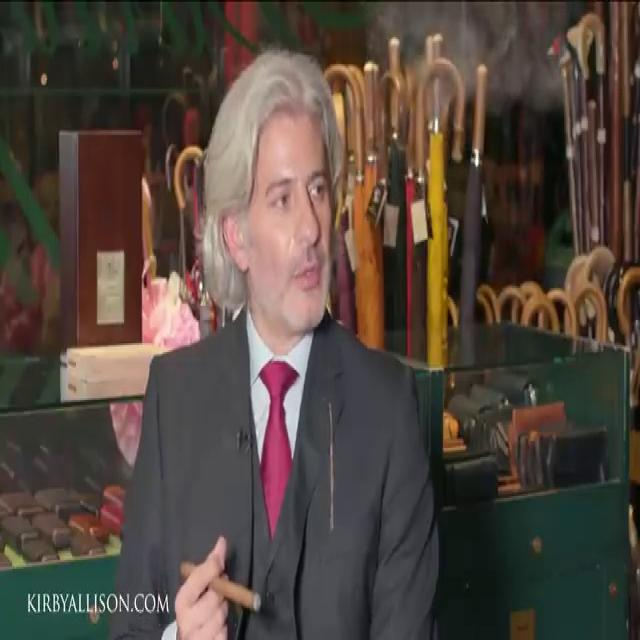Smooking: (170, 559, 275, 619)
